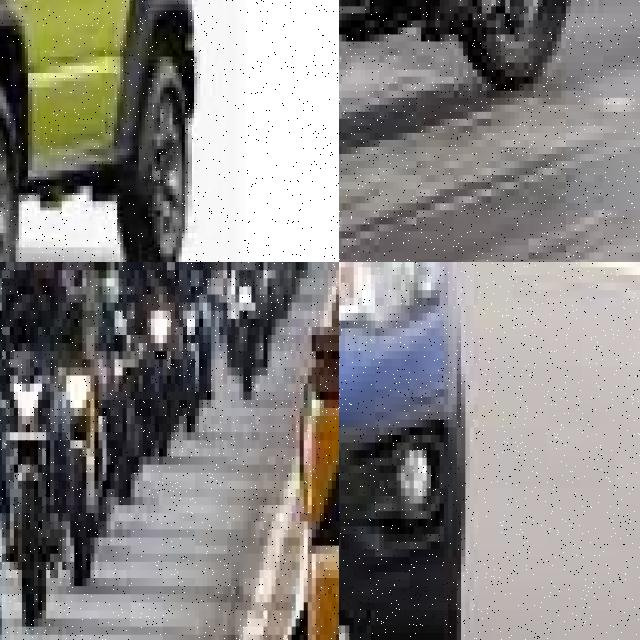bike: (339, 0, 608, 189), (5, 351, 58, 640), (66, 351, 115, 586), (147, 294, 179, 456), (227, 262, 267, 391)
car: (0, 0, 225, 262), (339, 262, 482, 640)
